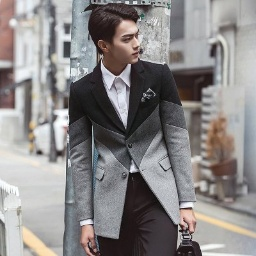face: (87, 3, 143, 65)
